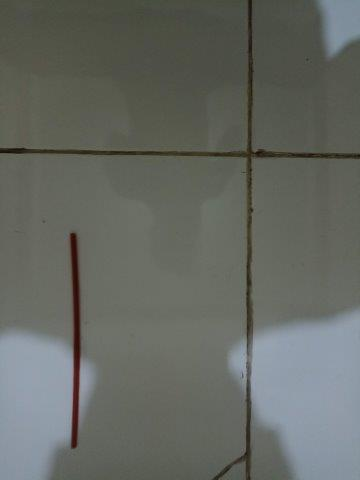sedotan: (69, 233, 82, 446)
